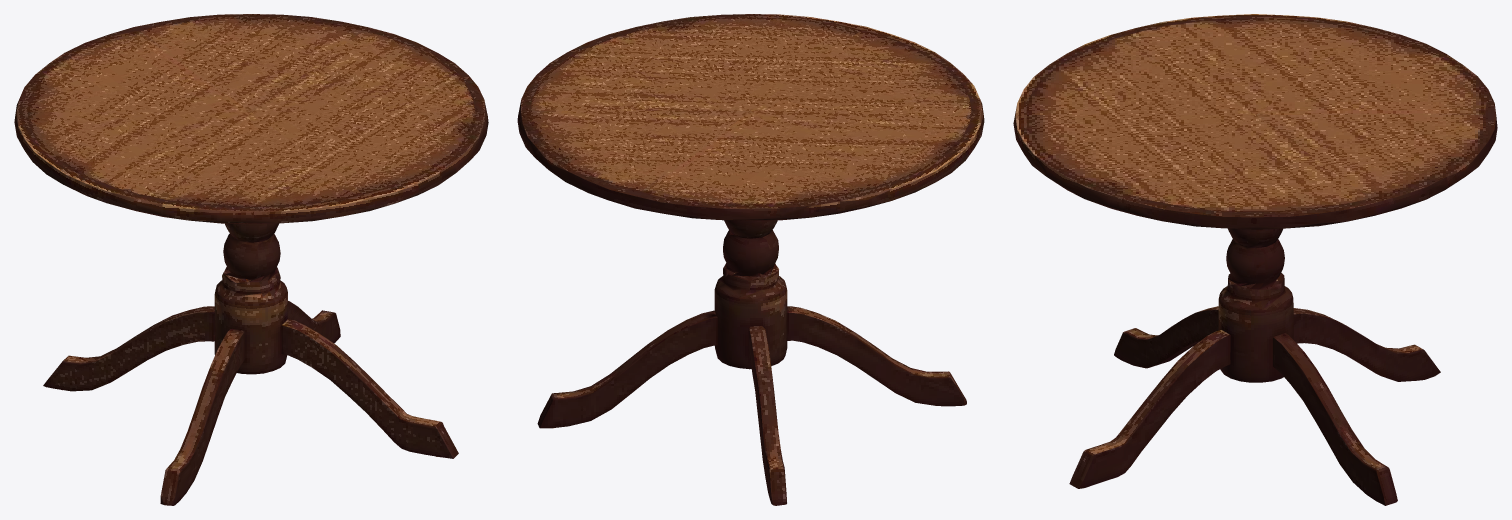
The model's file is gg_table_round.glb.
The picture shows the model from 3 angles, left to right: view 1: azimuth 30°, elevation 25°; view 2: azimuth 150°, elevation 25°; view 3: azimuth 270°, elevation 25°; orthographic projection. The views are drawn at different scales.
Parts seen in each view (by area): view 1: mesh; view 2: mesh; view 3: mesh.
Part boxes in pixels (x1,y1,x2,y2): mesh: [14, 14, 488, 505]; mesh: [517, 14, 984, 505]; mesh: [1013, 14, 1497, 505].
Bounding box in the file's own units: 1.4 × 1 × 1.4.
Materials: 1 (1 with a texture image).
